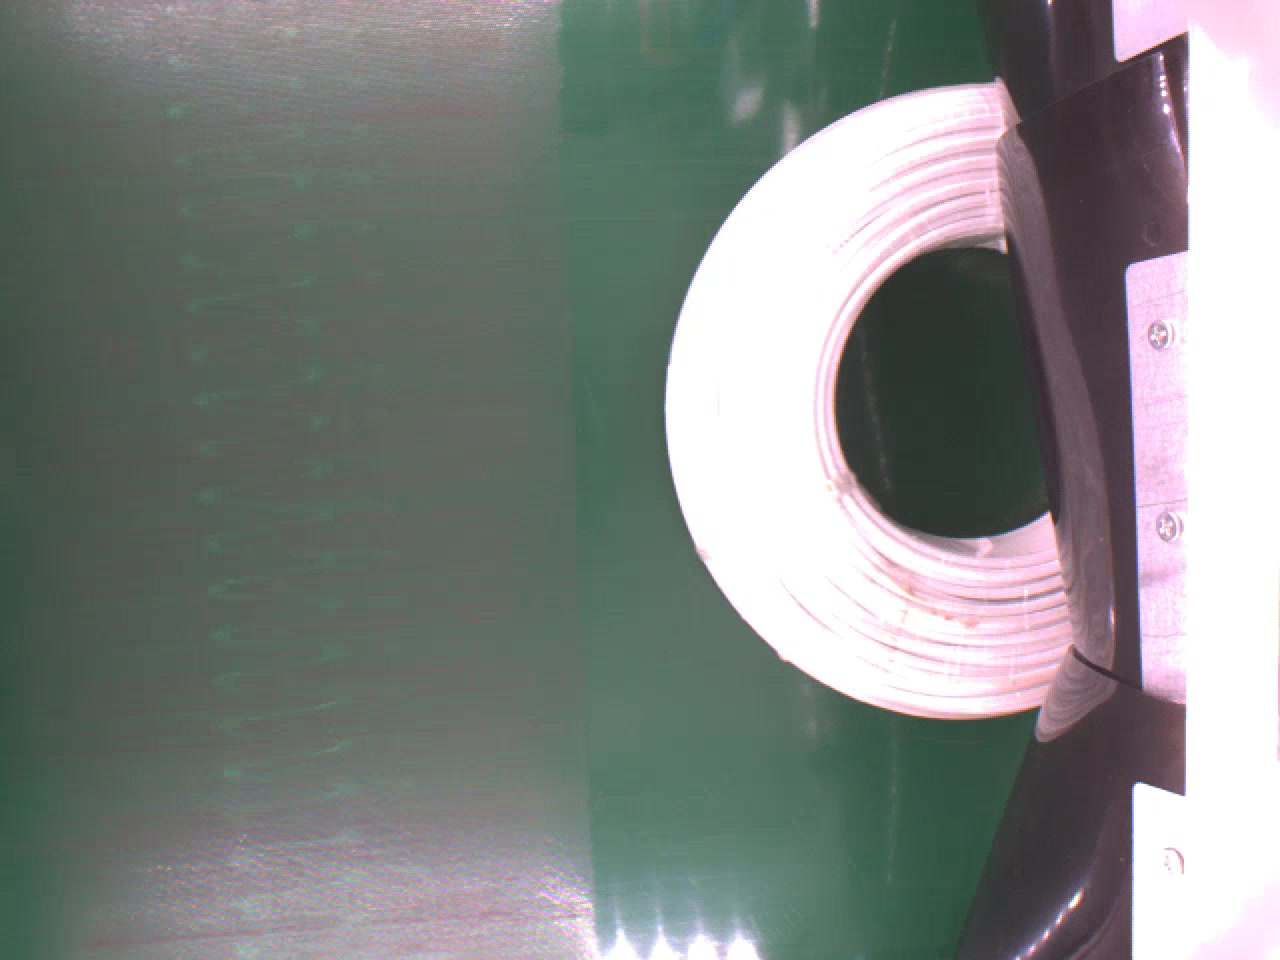white: (660, 77, 1075, 720)
